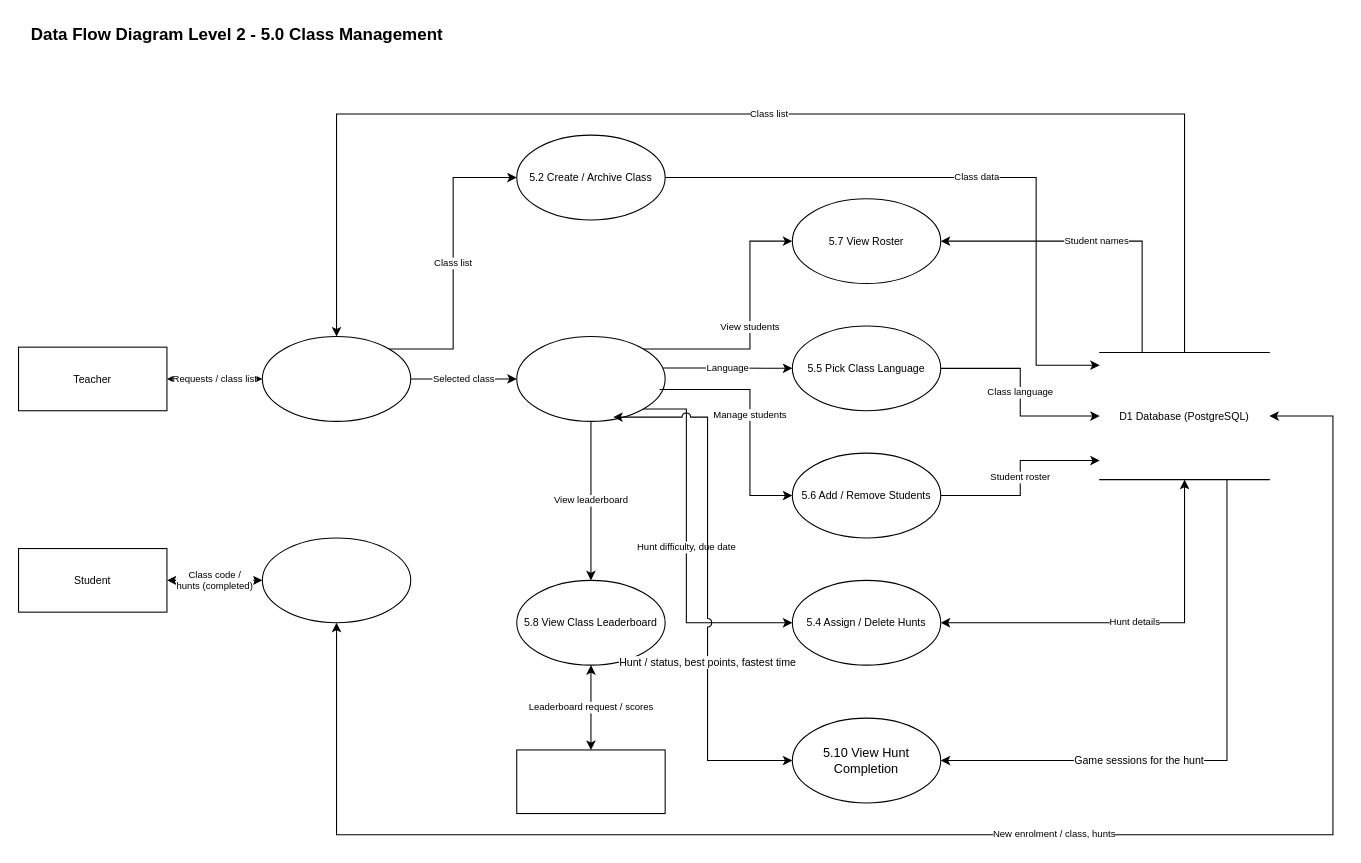
This 1361x863 diagram has some shape labels left out. The box of each missing label's shape, as (x1, y1, x2, y2) in pixels:
4.0 View Class Leaderboards: (516, 749, 665, 814)
5.1 View All Classes: (261, 335, 411, 421)
5.3 Select Class: (516, 335, 665, 421)
5.9 Join Class, View Assigned Hunts: (261, 537, 411, 623)
